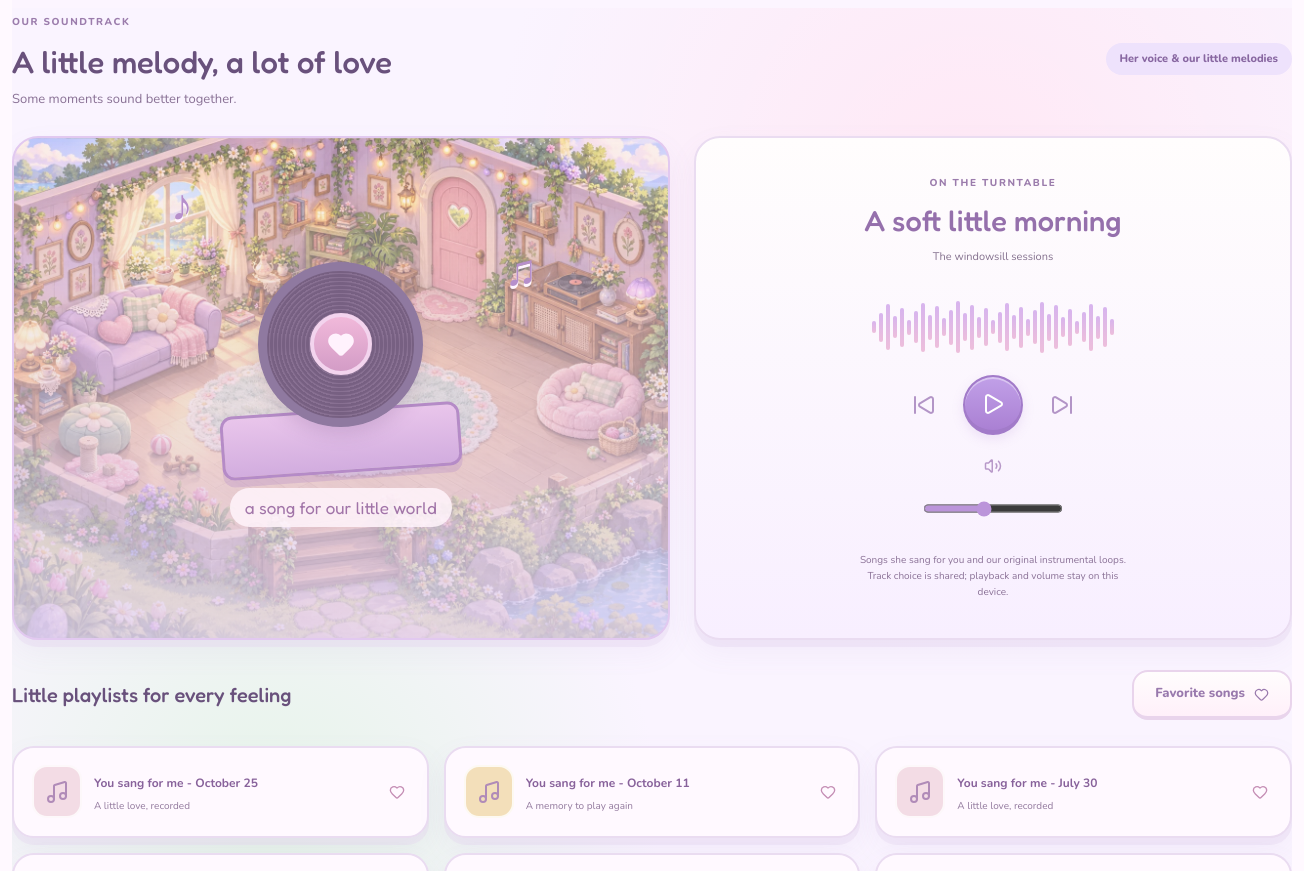
Test: little rooms › explains rejected audio playback and lets the user retry
Click the button named "Play".
click(993, 405)  # box [963, 375, 1023, 435]
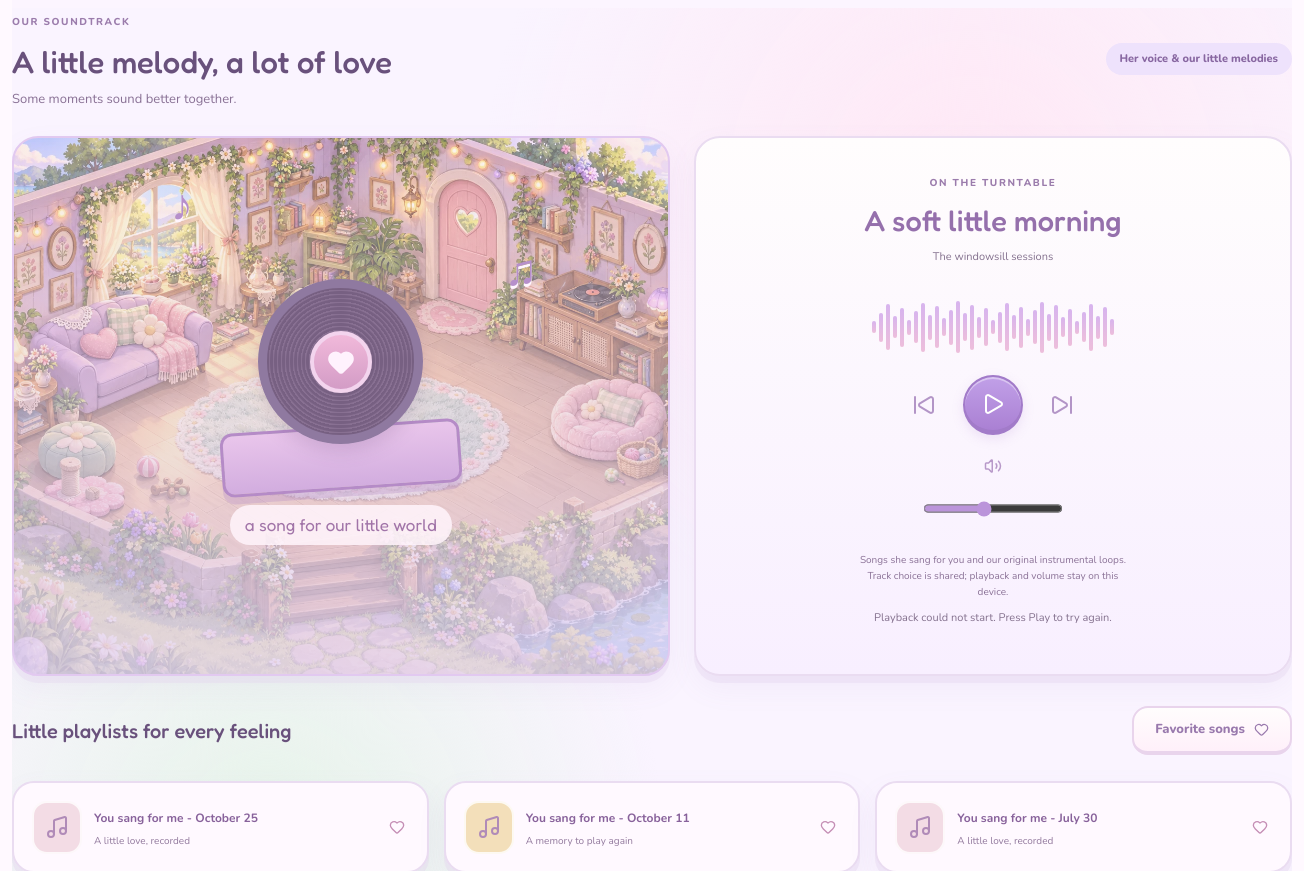
Result: the message shows "Playback could not start" at [874, 610, 1112, 625]
